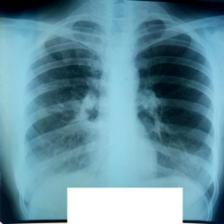tuberculosis: (13, 10, 219, 223)
